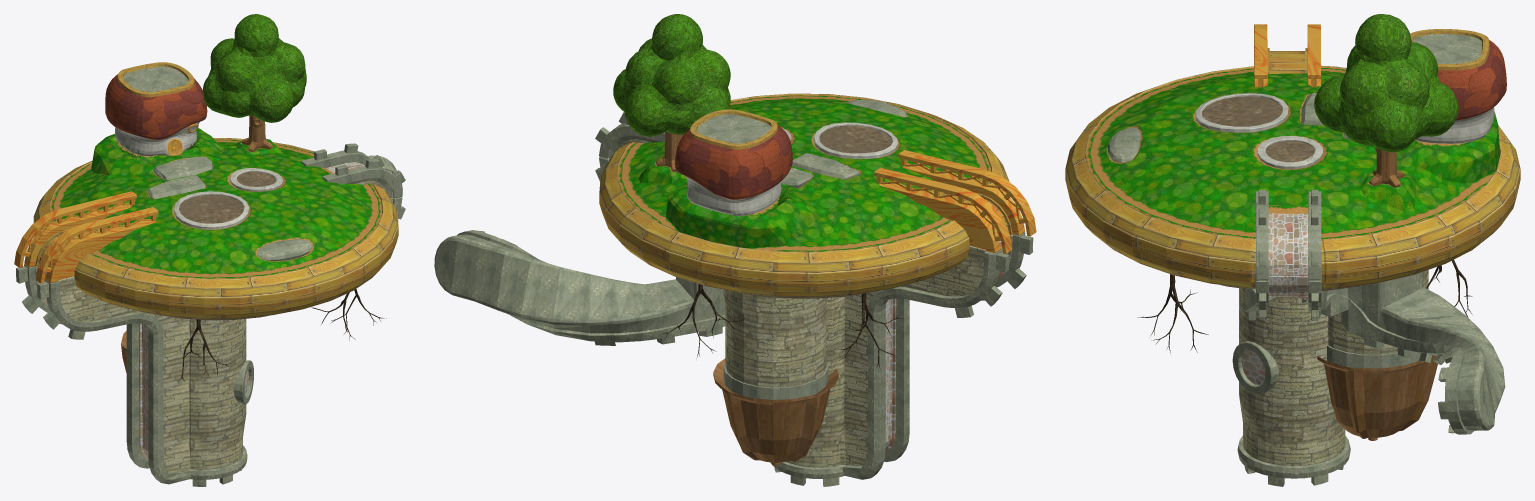
The model's file is DiskGardenPlanet.dae.
The picture shows the model from 3 angles, left to right: view 1: azimuth 30°, elevation 25°; view 2: azimuth 150°, elevation 25°; view 3: azimuth 270°, elevation 25°; orthographic projection. The views are drawn at different scales.
Parts seen in each view (by area): view 1: m9, m1, m4, m5, m3, m0, m10, m8, m12, m11, m13, m6 (+2 smaller); view 2: m5, m9, m1, m4, m3, m0, m2, m12, m8, m10, m11, m6 (+2 smaller); view 3: m9, m1, m5, m4, m3, m2, m8, m10, m6, m11, m12, m13 (+2 smaller).
Boxes of the visible parts, x1=… form: m9: x1=61, y1=128, x2=370, y2=273; m1: x1=33, y1=62, x2=398, y2=318; m4: x1=59, y1=180, x2=386, y2=472; m5: x1=16, y1=155, x2=405, y2=486; m3: x1=202, y1=14, x2=306, y2=122; m0: x1=14, y1=123, x2=198, y2=283; m10: x1=123, y1=66, x2=405, y2=261; m8: x1=50, y1=139, x2=382, y2=278; m12: x1=105, y1=74, x2=207, y2=139; m11: x1=115, y1=122, x2=283, y2=229; m13: x1=179, y1=171, x2=275, y2=223; m6: x1=35, y1=162, x2=364, y2=460; m5: x1=434, y1=157, x2=1033, y2=486; m9: x1=630, y1=98, x2=978, y2=248; m1: x1=599, y1=93, x2=1012, y2=297; m4: x1=618, y1=139, x2=985, y2=467; m3: x1=613, y1=14, x2=730, y2=136; m0: x1=874, y1=150, x2=1036, y2=253; m2: x1=655, y1=132, x2=838, y2=465; m12: x1=674, y1=125, x2=792, y2=199; m8: x1=618, y1=95, x2=990, y2=251; m10: x1=595, y1=99, x2=907, y2=188; m11: x1=685, y1=122, x2=898, y2=215; m6: x1=885, y1=234, x2=1012, y2=452; m9: x1=1099, y1=71, x2=1499, y2=232; m1: x1=1065, y1=29, x2=1520, y2=289; m5: x1=1232, y1=240, x2=1505, y2=486; m4: x1=1239, y1=270, x2=1428, y2=466; m3: x1=1314, y1=14, x2=1458, y2=151; m2: x1=1317, y1=148, x2=1437, y2=440; m8: x1=1086, y1=67, x2=1495, y2=239; m10: x1=1107, y1=34, x2=1481, y2=280; m6: x1=1241, y1=213, x2=1308, y2=385; m11: x1=1195, y1=93, x2=1494, y2=168; m12: x1=1437, y1=40, x2=1506, y2=120; m13: x1=1202, y1=96, x2=1314, y2=162.
Size of the model in its own units: 6331 by 5516 by 4504.
Materials: 16 (16 with a texture image).
